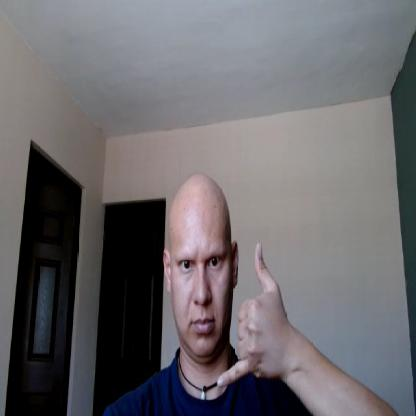Y: (213, 239, 287, 387)
